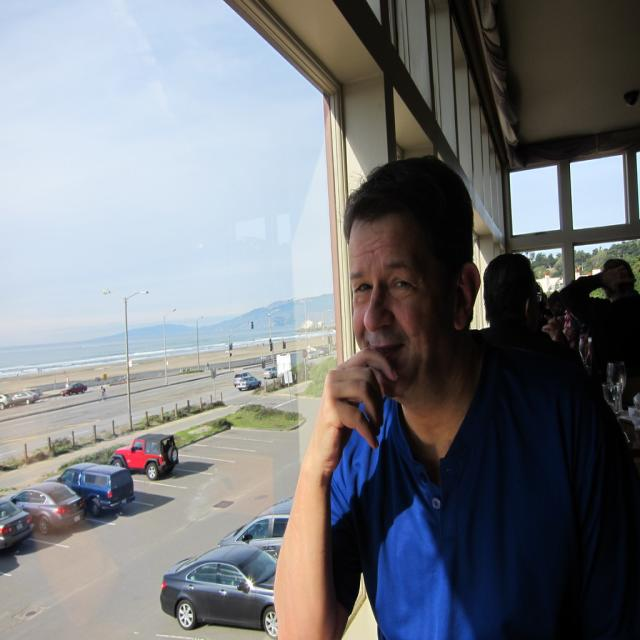car: (60, 380, 87, 394), (237, 375, 262, 390)
